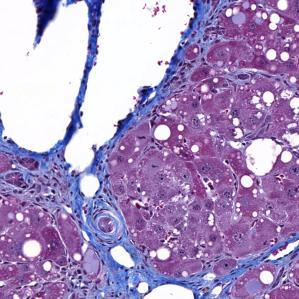fibrosis: (8, 141, 116, 223), (80, 227, 162, 296), (168, 13, 229, 91)
